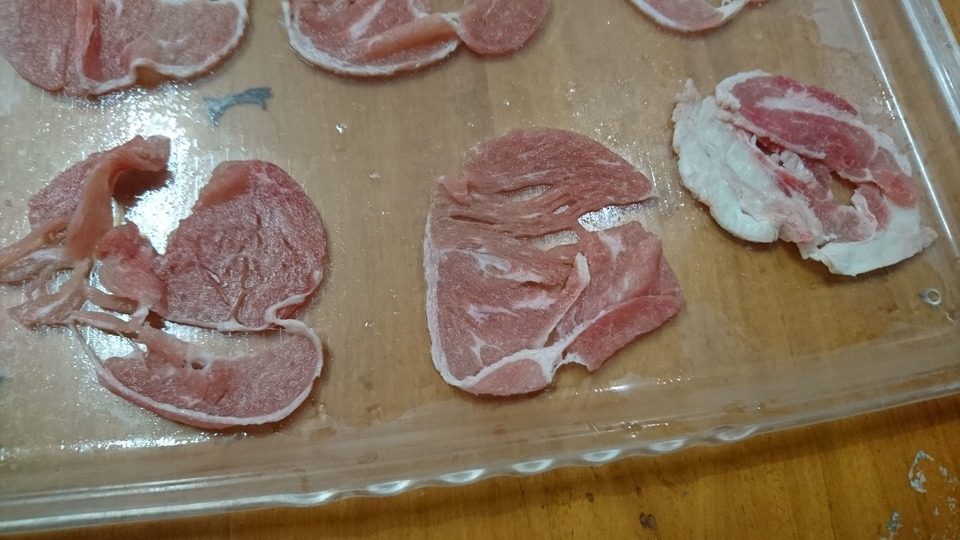restructured meat: (25, 145, 324, 426), (397, 106, 676, 396), (668, 80, 943, 271), (4, 1, 245, 91), (277, 2, 555, 78)
